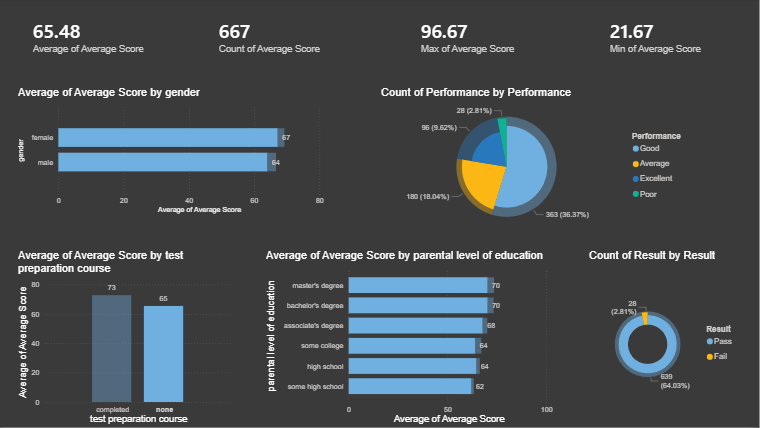

What the dashboard file says about the page in this screenshot:
{"tool":"powerbi","page":{"name":"Page 1","canvas":[1280,720],"ordinal":0},"visuals":[{"type":"cardVisual","fields":{"Data":["Avg(Studens performance cleaned xls.Average Score)"]},"box":[30.2,0,246.9,124.3],"z":0},{"type":"cardVisual","fields":{"Data":["CountNonNull(Studens performance cleaned xls.Average Score)"]},"box":[342.7,0,246.9,124.3],"z":1},{"type":"cardVisual","fields":{"Data":["Max(Studens performance cleaned xls.Average Score)"]},"box":[682,0,246.9,124.3],"z":2},{"type":"cardVisual","fields":{"Data":["Min(Studens performance cleaned xls.Average Score)"]},"box":[999.5,0,246.9,124.3],"z":3},{"type":"clusteredBarChart","fields":{"Category":["Studens performance cleaned xls.gender"],"Y":["Avg(Studens performance cleaned xls.Average Score)"]},"box":[30.2,147.8,559.4,220.1],"z":4},{"type":"columnChart","fields":{"Category":["Studens performance cleaned xls.test preparation course"],"Y":["Avg(Studens performance cleaned xls.Average Score)"]},"box":[30.2,421.6,369.6,299],"z":5},{"type":"barChart","fields":{"Category":["Studens performance cleaned xls.parental level of education"],"Y":["Avg(Studens performance cleaned xls.Average Score)"]},"box":[446.8,421.6,497.2,299],"z":6},{"type":"pieChart","fields":{"Category":["Studens performance cleaned xls.Performance"],"Y":["CountNonNull(Studens performance cleaned xls.Performance)"]},"box":[640,147.8,530.8,250.3],"z":7},{"type":"donutChart","fields":{"Category":["Studens performance cleaned xls.Result"],"Y":["CountNonNull(Studens performance cleaned xls.Result)"]},"box":[989.4,421.6,267.1,299],"z":8}]}

Visuals, with their boxes in screenshot pixels (x1, y1, x2, y2), scaled from the page's 1280x720 canvas onto the 760x428 screenshot:
cardVisual - Avg(Studens performance cleaned xls.Average Score): <region>18, 0, 165, 74</region>
cardVisual - CountNonNull(Studens performance cleaned xls.Average Score): <region>203, 0, 350, 74</region>
cardVisual - Max(Studens performance cleaned xls.Average Score): <region>405, 0, 552, 74</region>
cardVisual - Min(Studens performance cleaned xls.Average Score): <region>593, 0, 740, 74</region>
clusteredBarChart - Studens performance cleaned xls.gender x Avg(Studens performance cleaned xls.Average Score): <region>18, 88, 350, 219</region>
columnChart - Studens performance cleaned xls.test preparation course x Avg(Studens performance cleaned xls.Average Score): <region>18, 251, 237, 427</region>
barChart - Studens performance cleaned xls.parental level of education x Avg(Studens performance cleaned xls.Average Score): <region>265, 251, 560, 427</region>
pieChart - Studens performance cleaned xls.Performance x CountNonNull(Studens performance cleaned xls.Performance): <region>380, 88, 695, 237</region>
donutChart - Studens performance cleaned xls.Result x CountNonNull(Studens performance cleaned xls.Result): <region>587, 251, 746, 427</region>
